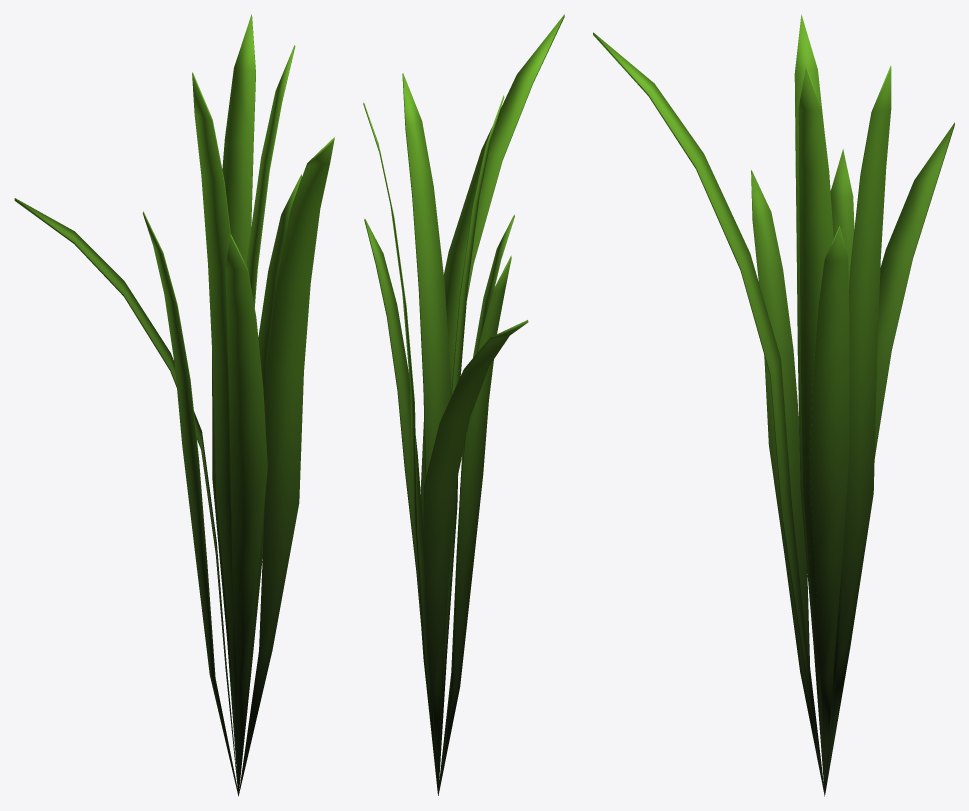
The model's file is grass_3.glb.
3 renders of one model, left to right at view 1: azimuth 30°, elevation 25°; view 2: azimuth 150°, elevation 25°; view 3: azimuth 270°, elevation 25°, orthographic. The views are drawn at different scales.
Visible parts, largest first — view 1: grass_3; view 2: grass_3; view 3: grass_3.
Part boxes in pixels (x1,y1,x2,y2): grass_3: (14, 14, 334, 796); grass_3: (363, 14, 564, 795); grass_3: (593, 14, 954, 796).
Size of the model in its own units: 0.4358 by 1.35 by 0.5873.
1 material, 1 textured.
